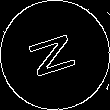N_E: (25, 28, 85, 82)
